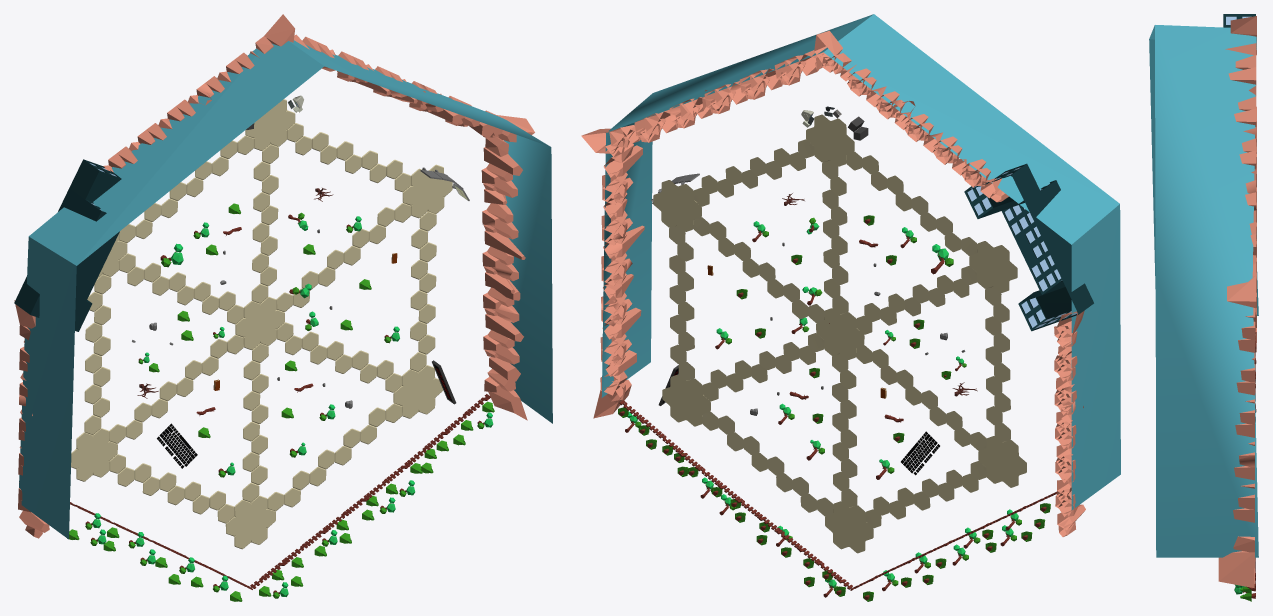
3 renders of one model, left to right at view 1: azimuth 30°, elevation 25°; view 2: azimuth 150°, elevation 25°; view 3: azimuth 270°, elevation 25°, orthographic. The views are drawn at different scales.
Parts seen in each view (by area): view 1: Plane.001, Circle.015, stone2.001, Circle.001, Circle.014, пол.010, пол.007, пол.002, пол.005, пол.008, пол.011, пол.001 (+13 smaller); view 2: Plane.001, Circle.015, stone2.001, Circle.014, Circle.001, Circle.032, пол.008, пол.010, пол.002, пол.004, пол.007, пол.005 (+15 smaller); view 3: Plane.001, Circle.015, Circle.014, Circle.001, Circle.032.
Boxes of the visible parts, left/top/right/bottom form: Plane.001: left=19, top=40, right=552, bottom=539; Circle.015: left=481, top=137, right=527, bottom=420; stone2.001: left=14, top=159, right=121, bottom=331; Circle.001: left=103, top=14, right=294, bottom=172; Circle.014: left=294, top=34, right=534, bottom=142; пол.010: left=410, top=211, right=436, bottom=371; пол.007: left=109, top=334, right=243, bottom=443; пол.002: left=242, top=343, right=268, bottom=502; пол.005: left=251, top=144, right=278, bottom=303; пол.008: left=84, top=274, right=111, bottom=434; пол.011: left=267, top=403, right=402, bottom=511; пол.001: left=276, top=322, right=401, bottom=392; Plane.001: left=601, top=14, right=1120, bottom=509; Circle.015: left=593, top=142, right=644, bottom=418; stone2.001: left=964, top=163, right=1093, bottom=331; Circle.014: left=581, top=50, right=830, bottom=157; Circle.001: left=814, top=30, right=1008, bottom=202; Circle.032: left=1054, top=310, right=1085, bottom=536; пол.008: left=985, top=286, right=1010, bottom=442; пол.010: left=669, top=225, right=694, bottom=380; пол.002: left=832, top=353, right=857, bottom=507; пол.004: left=693, top=217, right=824, bottom=322; пол.007: left=856, top=345, right=986, bottom=450; пол.005: left=822, top=160, right=848, bottom=314; Plane.001: left=1149, top=25, right=1258, bottom=557; Circle.015: left=1218, top=307, right=1255, bottom=588; Circle.014: left=1225, top=43, right=1256, bottom=308; Circle.001: left=1230, top=16, right=1256, bottom=55; Circle.032: left=1255, top=106, right=1256, bottom=352.
Size of what is drawn, in the model's own units: 139 by 150 by 25.41.
Materials: 38 (7 with a texture image).
